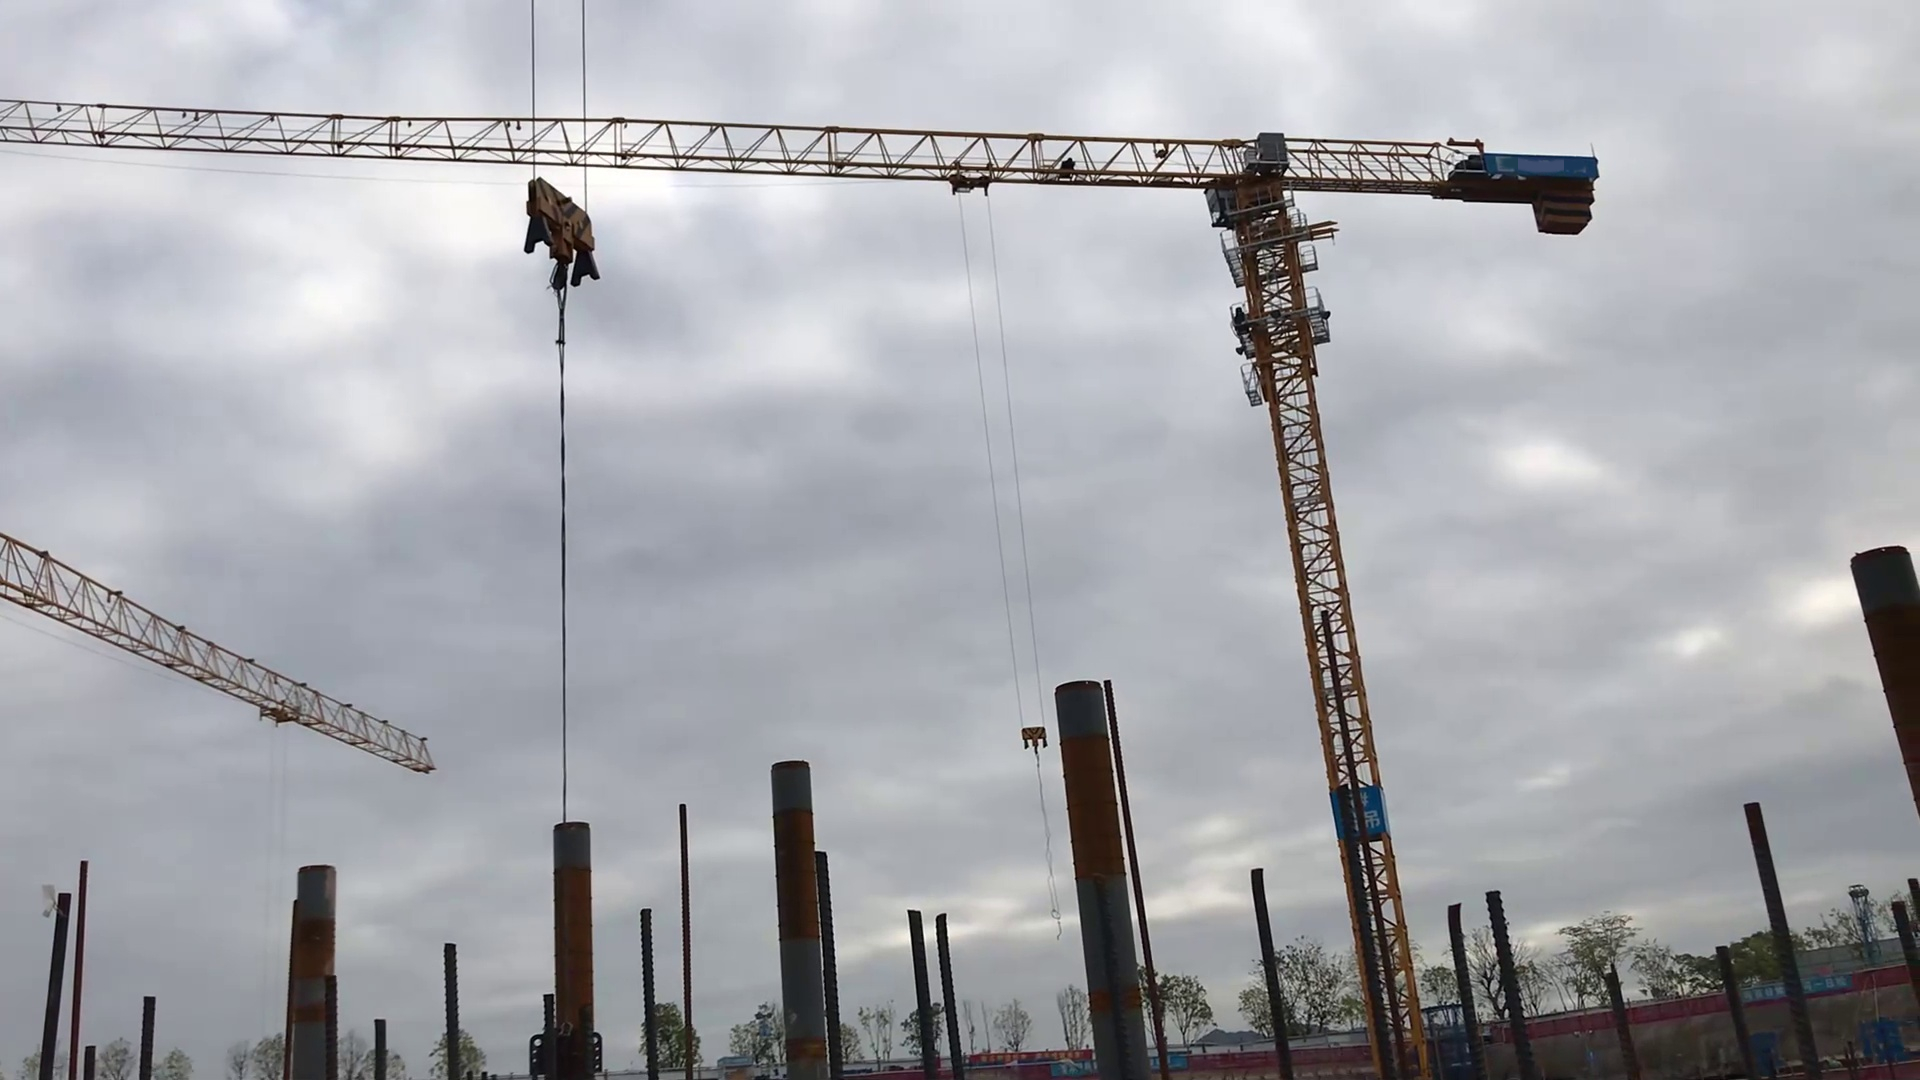hook: (521, 171, 603, 309), (1019, 723, 1051, 767)
slogan: (1735, 978, 1871, 1007)
